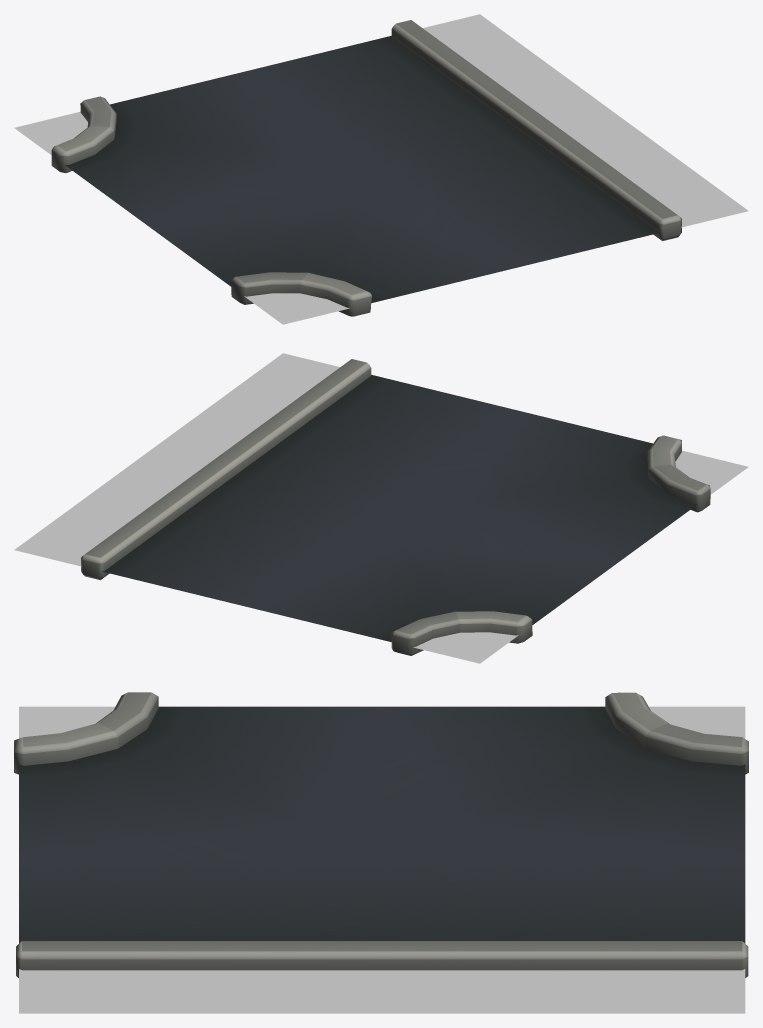
The model's file is lane_section_t_section.fbx.
The picture shows the model from 3 angles, top to bottom: view 1: azimuth 30°, elevation 25°; view 2: azimuth 150°, elevation 25°; view 3: azimuth 270°, elevation 25°; orthographic projection. The views are drawn at different scales.
Parts seen in each view (by area): view 1: lane_section_t_section, lane_section_t_section_sidewalk; view 2: lane_section_t_section, lane_section_t_section_sidewalk; view 3: lane_section_t_section, lane_section_t_section_sidewalk.
Part boxes in pixels (<box>): lane_section_t_section: <box>51,20,681,316</box>; lane_section_t_section_sidewalk: <box>14,14,748,324</box>; lane_section_t_section: <box>81,359,710,655</box>; lane_section_t_section_sidewalk: <box>14,353,748,663</box>; lane_section_t_section: <box>14,692,748,977</box>; lane_section_t_section_sidewalk: <box>19,706,745,1013</box>.
Size of the model in its own units: 1208 by 55 by 1215.
